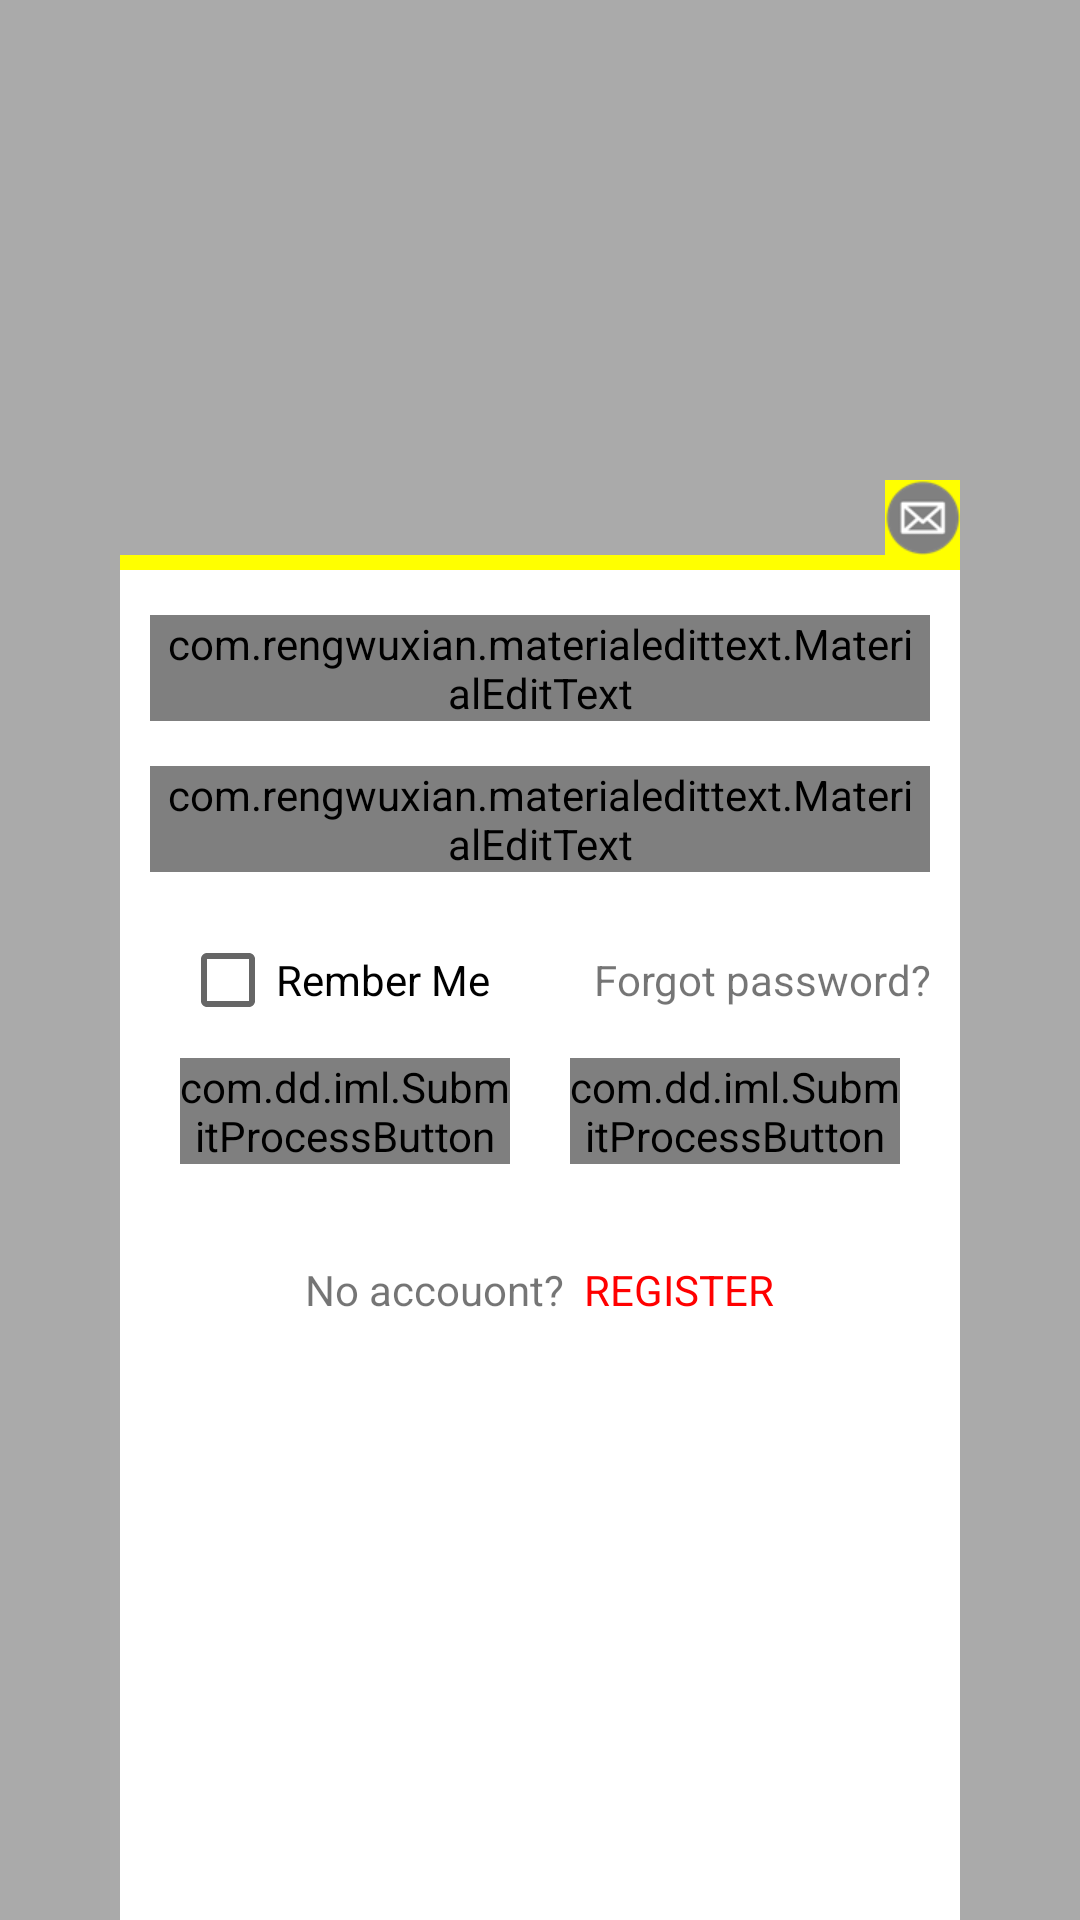

Named icons in this screenshot (1080*1920) and their bounding boxes, bbox=(x1, y1, x2, y2):
mail: bbox=(886, 481, 960, 555)
